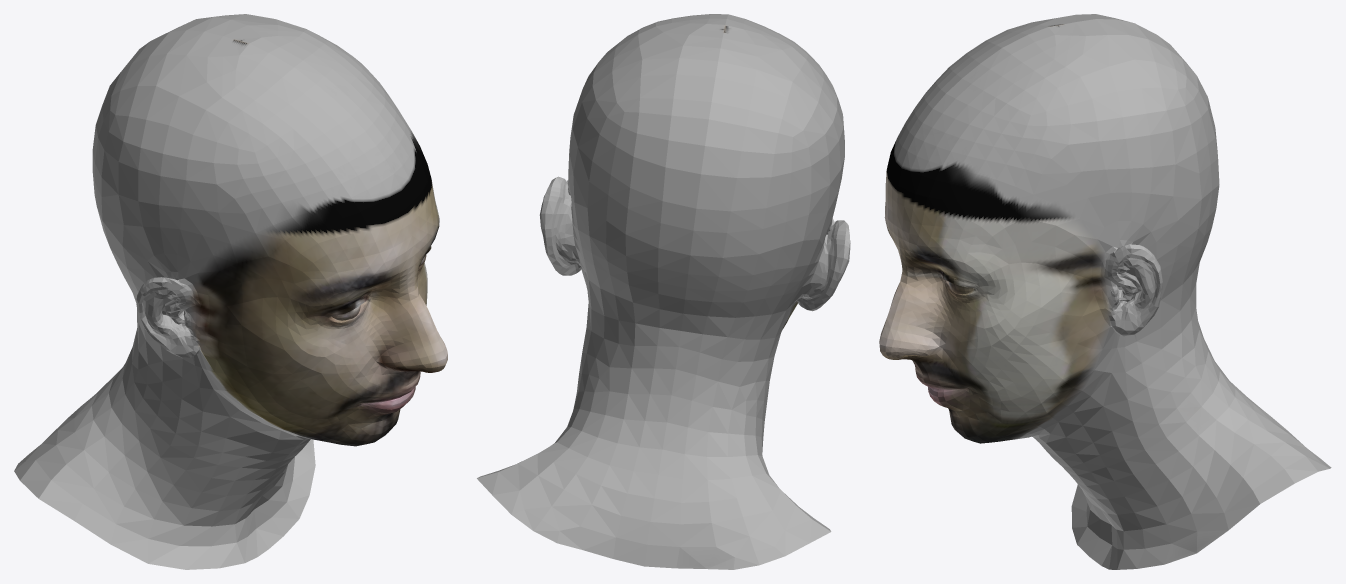
File: ezgif-frame-039.obj
The picture shows the model from 3 angles, left to right: view 1: azimuth 30°, elevation 25°; view 2: azimuth 150°, elevation 25°; view 3: azimuth 270°, elevation 25°; orthographic projection. The views are drawn at different scales.
Size of the model in its own units: 0.1978 by 0.3264 by 0.259.
1 material, 1 textured.
